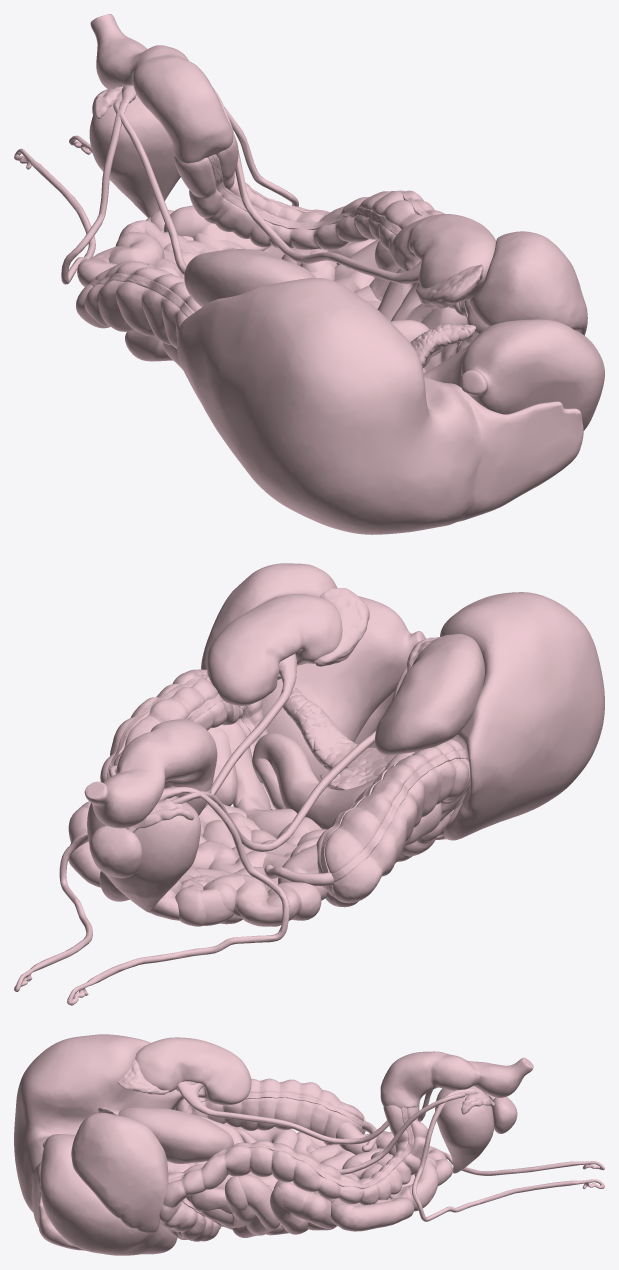
Rendered from abdomen-organes.glb.
3 renders of one model, top to bottom at view 1: azimuth 30°, elevation 25°; view 2: azimuth 150°, elevation 25°; view 3: azimuth 270°, elevation 25°, orthographic. The views are drawn at different scales.
Parts seen in each view (by area): view 1: foie, colon, estomac, rectum, rate, ileon, vessie, rein_gauche, rein_droit, jejunum, conduit_deferent_droit, uretere_gauche (+6 smaller); view 2: foie, colon, ileon, rein_gauche, estomac, rein_droit, rectum, jejunum, vessie, duodenum, pancreas, rate (+10 smaller); view 3: colon, foie, rate, jejunum, estomac, ileon, rein_droit, rectum, rein_gauche, vessie, conduit_deferent_gauche, uretere_droit (+8 smaller).
Part boxes in pixels (x1=…): foie: x1=177, y1=278, x2=583, y2=534; colon: x1=76, y1=135, x2=487, y2=372; estomac: x1=423, y1=319, x2=604, y2=430; rectum: x1=90, y1=14, x2=233, y2=163; rate: x1=470, y1=231, x2=587, y2=335; ileon: x1=77, y1=205, x2=376, y2=361; vessie: x1=89, y1=93, x2=180, y2=217; rein_gauche: x1=390, y1=214, x2=496, y2=300; rein_droit: x1=184, y1=249, x2=315, y2=306; jejunum: x1=163, y1=239, x2=467, y2=369; conduit_deferent_droit: x1=14, y1=85, x2=136, y2=284; uretere_gauche: x1=213, y1=88, x2=421, y2=283; foie: x1=354, y1=592, x2=604, y2=840; colon: x1=100, y1=669, x2=470, y2=903; ileon: x1=68, y1=801, x2=358, y2=926; rein_gauche: x1=207, y1=594, x2=342, y2=705; estomac: x1=262, y1=596, x2=425, y2=782; rein_droit: x1=375, y1=634, x2=484, y2=755; rectum: x1=84, y1=719, x2=217, y2=828; jejunum: x1=199, y1=722, x2=441, y2=858; vessie: x1=87, y1=796, x2=200, y2=912; duodenum: x1=252, y1=733, x2=414, y2=829; pancreas: x1=281, y1=687, x2=395, y2=790; rate: x1=201, y1=563, x2=337, y2=669; colon: x1=159, y1=1078, x2=428, y2=1241; foie: x1=14, y1=1034, x2=183, y2=1250; rate: x1=71, y1=1112, x2=168, y2=1233; jejunum: x1=190, y1=1123, x2=336, y2=1237; estomac: x1=40, y1=1134, x2=177, y2=1255; ileon: x1=293, y1=1122, x2=452, y2=1231; rein_droit: x1=135, y1=1037, x2=251, y2=1105; rectum: x1=380, y1=1051, x2=533, y2=1108; rein_gauche: x1=118, y1=1107, x2=233, y2=1163; vessie: x1=435, y1=1086, x2=493, y2=1173; conduit_deferent_gauche: x1=412, y1=1087, x2=604, y2=1221; uretere_droit: x1=177, y1=1081, x2=388, y2=1144.
Bounding box in the file's own units: 234 × 171 × 510.
